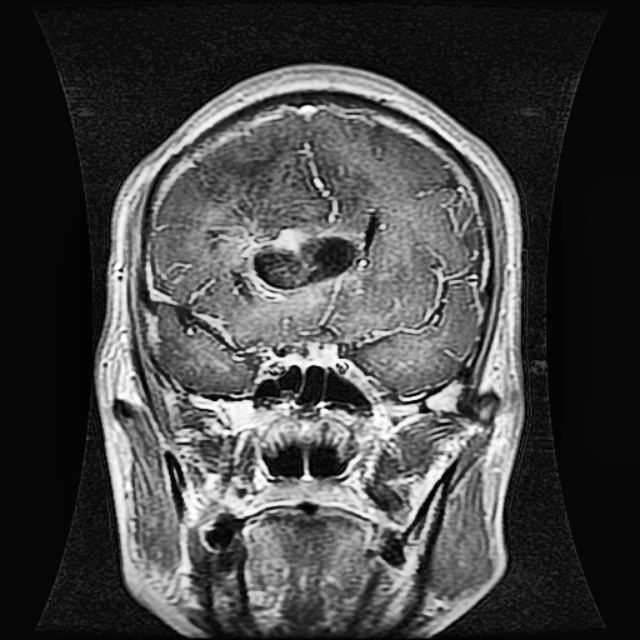Meningioma: (220, 208, 383, 305)
